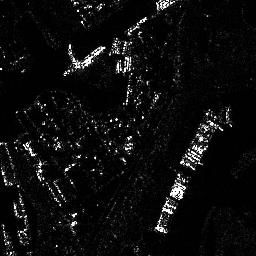ship: (62, 45, 106, 76)
